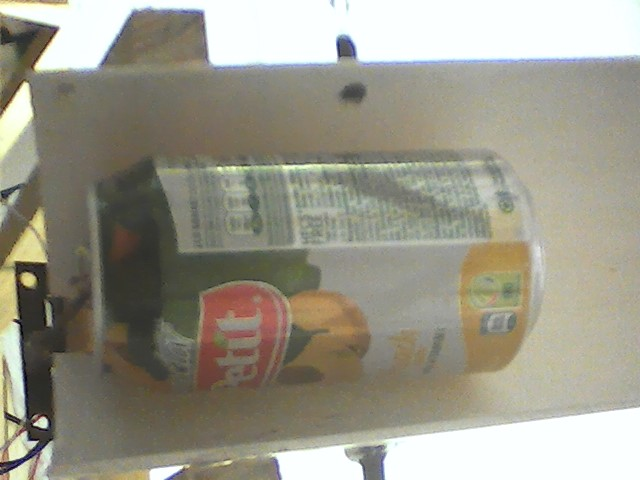lata: (76, 145, 556, 407)
